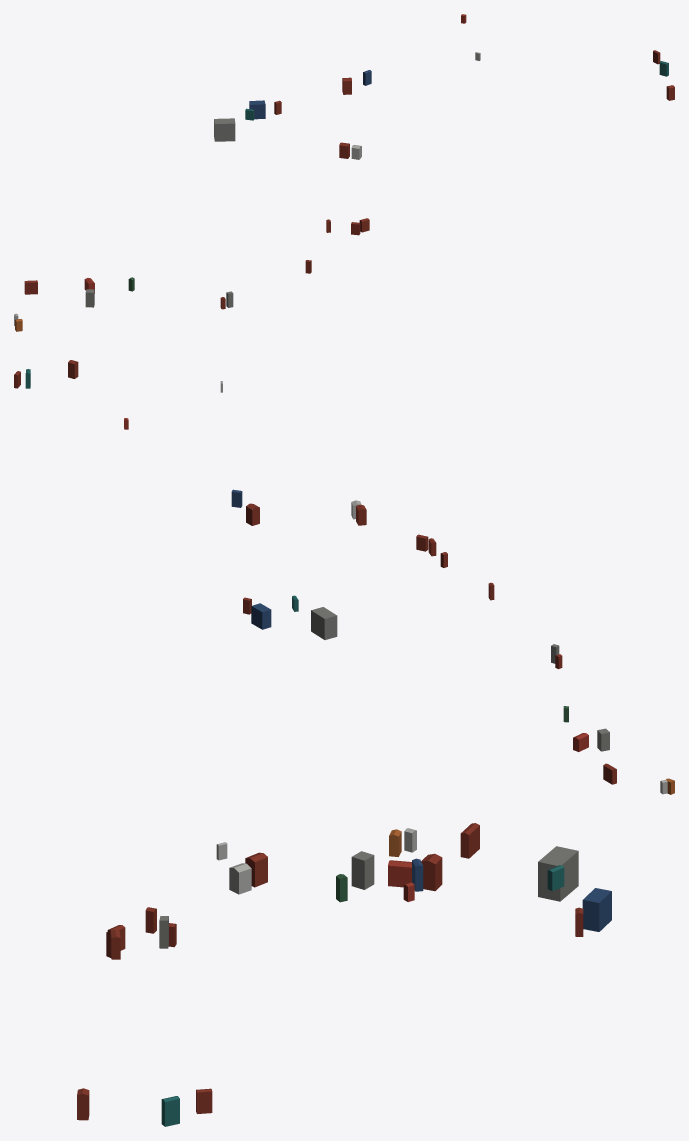
The model's file is near-15-27356-14863.5d721cff.glb.
3 views of the same model, one above another, from view 1: azimuth 30°, elevation 25°; view 2: azimuth 150°, elevation 25°; view 3: azimuth 270°, elevation 25° (orthographic). The views are drawn at different scales.
Size of the model in its own units: 1089 by 364 by 424.
